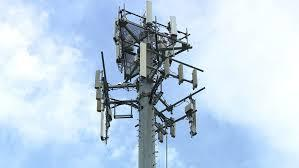antenna: (137, 40, 148, 77), (188, 98, 198, 137), (145, 0, 155, 24), (99, 111, 107, 140), (191, 65, 199, 91), (168, 116, 177, 138), (169, 16, 179, 35), (177, 63, 185, 86), (162, 57, 171, 76), (94, 69, 102, 90), (158, 124, 165, 145), (96, 100, 106, 110)
